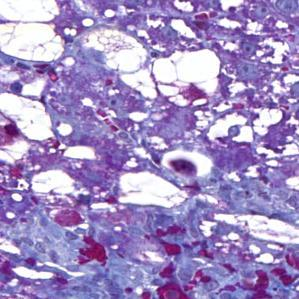ballooning: (150, 45, 223, 109), (3, 3, 66, 66), (211, 207, 297, 247), (118, 168, 189, 210), (2, 91, 55, 143)
